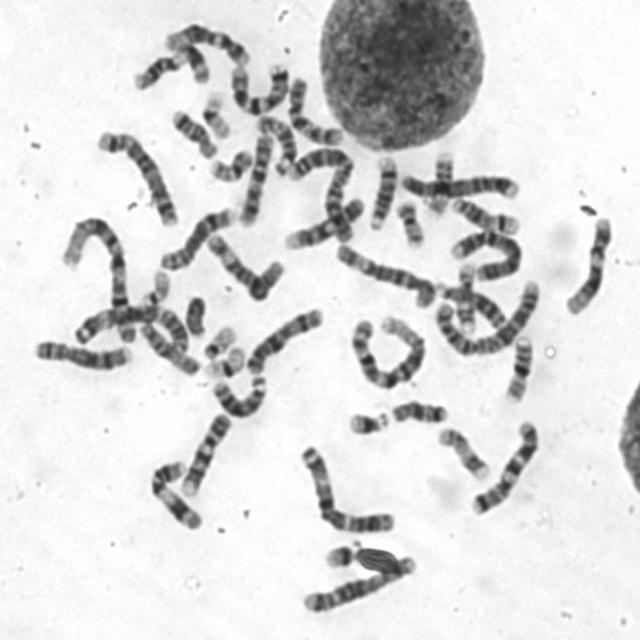A1: (55, 212, 136, 348), (344, 310, 428, 391)
A2: (430, 275, 542, 359), (286, 143, 358, 248)
A3: (296, 440, 396, 535), (69, 299, 190, 356)
B4: (445, 224, 523, 284), (396, 168, 520, 201)
B5: (92, 125, 180, 228), (298, 550, 418, 616)
C10: (284, 72, 346, 148), (236, 129, 276, 228)
C11: (146, 456, 204, 531), (130, 42, 212, 92)
C12: (561, 212, 614, 315), (162, 18, 252, 66)
C6: (332, 238, 436, 310), (208, 231, 288, 303)
C7: (465, 417, 541, 517), (228, 60, 292, 116)
C8: (156, 202, 238, 271), (30, 334, 133, 373)
C9: (280, 192, 366, 250), (178, 410, 234, 497)
D13: (432, 277, 508, 330), (210, 371, 268, 419)
D14: (448, 194, 521, 236), (364, 153, 400, 232)
D15: (137, 318, 200, 378), (254, 112, 300, 180)
E16: (420, 147, 458, 218), (500, 331, 535, 404)
E17: (434, 423, 489, 482), (452, 258, 479, 336)
E18: (168, 104, 220, 161), (388, 396, 448, 426)
F19: (198, 89, 234, 141), (202, 343, 248, 380)
F20: (207, 144, 254, 184), (394, 197, 426, 249)
G21: (344, 405, 391, 438), (320, 536, 362, 570)
G22: (200, 321, 238, 360), (136, 267, 172, 308)
X: (242, 304, 326, 376)
Y: (182, 292, 210, 338)
